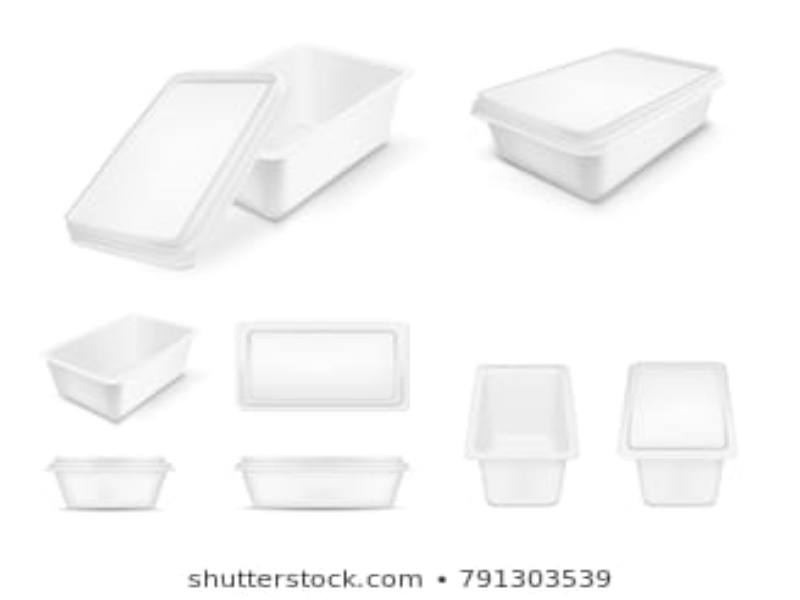plastic-container: (467, 44, 739, 207), (195, 47, 411, 218), (617, 353, 741, 514), (460, 361, 581, 508), (47, 315, 194, 420), (239, 454, 411, 511), (41, 457, 180, 511)
